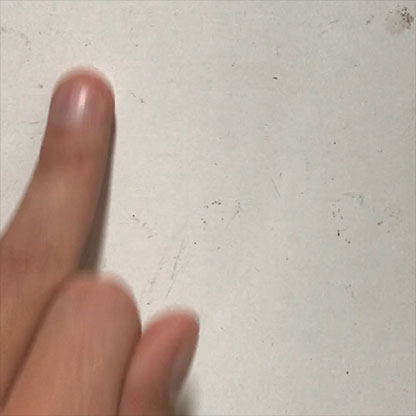fingertip: (46, 60, 120, 142)
